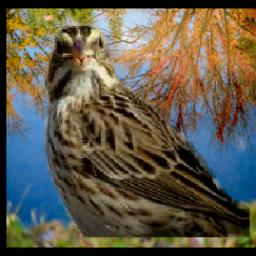Sparrow: (41, 22, 250, 237)
